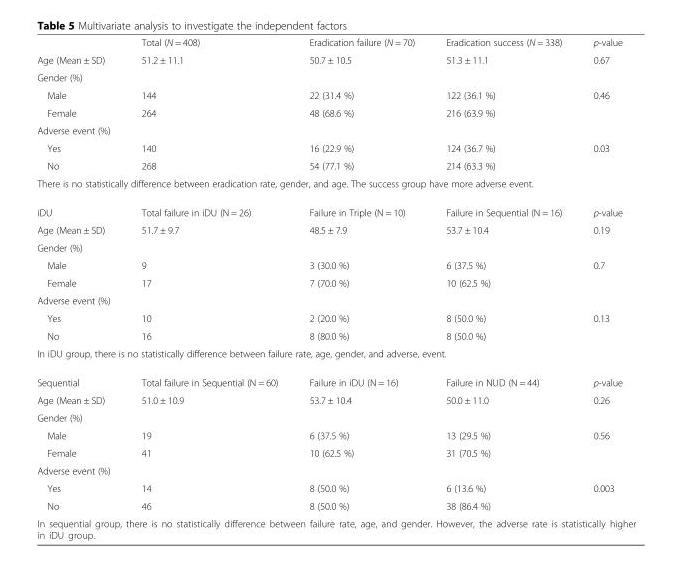table: (36, 36, 635, 540)
table column: (125, 36, 293, 540), (429, 36, 577, 540), (293, 36, 429, 540), (36, 36, 125, 540), (577, 36, 635, 540)
table column header: (36, 36, 635, 50)
table projected row header: (36, 514, 635, 540), (36, 174, 635, 197), (36, 344, 635, 367), (36, 68, 635, 86), (36, 121, 635, 139), (36, 238, 635, 256), (36, 291, 635, 309), (36, 408, 635, 426), (36, 461, 635, 479)
table row: (36, 514, 635, 540), (36, 367, 635, 391), (36, 174, 635, 197), (36, 197, 635, 220), (36, 344, 635, 367), (36, 50, 635, 68), (36, 68, 635, 86), (36, 103, 635, 121), (36, 121, 635, 139), (36, 156, 635, 174), (36, 220, 635, 238), (36, 238, 635, 256), (36, 273, 635, 291), (36, 291, 635, 309), (36, 326, 635, 344), (36, 408, 635, 426), (36, 443, 635, 461), (36, 461, 635, 479), (36, 496, 635, 514), (36, 86, 635, 103), (36, 139, 635, 156), (36, 256, 635, 273), (36, 309, 635, 326), (36, 391, 635, 408), (36, 426, 635, 443), (36, 479, 635, 496), (36, 36, 635, 50)
